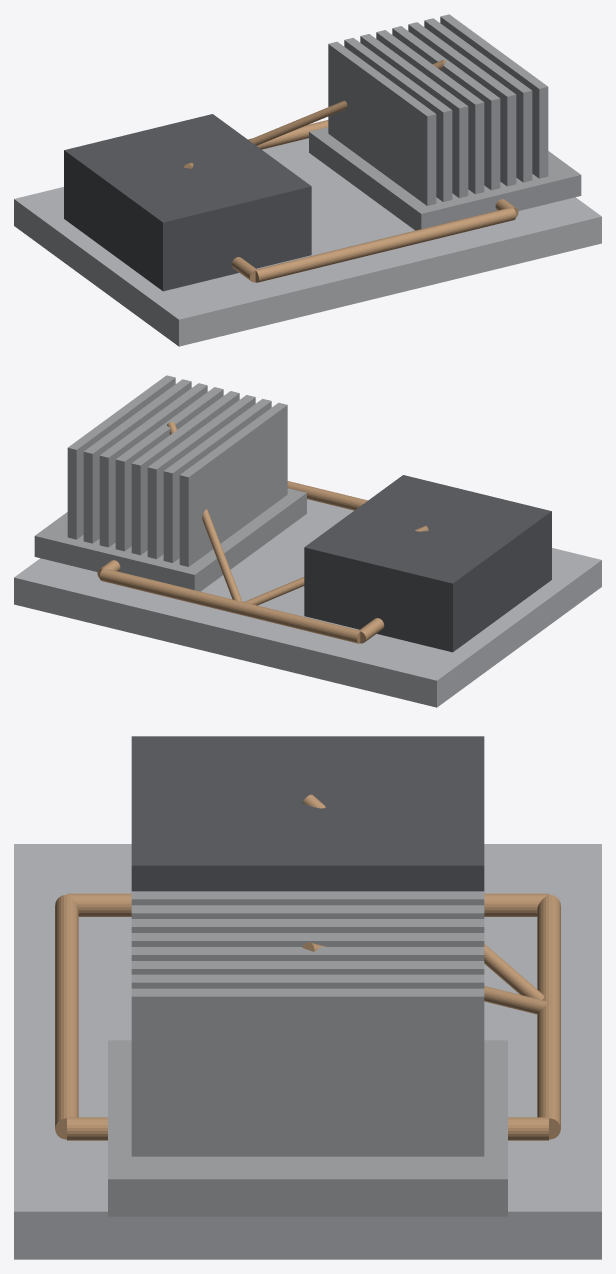
The picture shows the model from 3 angles, top to bottom: view 1: azimuth 30°, elevation 25°; view 2: azimuth 150°, elevation 25°; view 3: azimuth 270°, elevation 25°; orthographic projection. The views are drawn at different scales.
Parts seen in each view (by area): view 1: heat_sink, assembly_base, heat_source, coolant_loop, link_coolant_loop__heat_sink; view 2: heat_sink, assembly_base, heat_source, coolant_loop, link_coolant_loop__heat_sink, link_coolant_loop__heat_source; view 3: heat_sink, assembly_base, heat_source, coolant_loop, link_coolant_loop__heat_source, link_coolant_loop__heat_sink.
Part boxes in pixels (x1=…): heat_sink: x1=309, y1=14, x2=581, y2=230; assembly_base: x1=14, y1=138, x2=601, y2=346; heat_source: x1=64, y1=114, x2=311, y2=291; coolant_loop: x1=231, y1=120, x2=518, y2=282; link_coolant_loop__heat_sink: x1=249, y1=59, x2=445, y2=145; heat_sink: x1=34, y1=375, x2=306, y2=591; assembly_base: x1=14, y1=499, x2=601, y2=707; heat_source: x1=304, y1=475, x2=551, y2=652; coolant_loop: x1=97, y1=481, x2=384, y2=643; link_coolant_loop__heat_sink: x1=167, y1=422, x2=242, y2=601; link_coolant_loop__heat_source: x1=244, y1=525, x2=428, y2=605; heat_sink: x1=108, y1=891, x2=507, y2=1216; assembly_base: x1=14, y1=844, x2=601, y2=1259; heat_source: x1=131, y1=736, x2=484, y2=891; coolant_loop: x1=55, y1=893, x2=560, y2=1140; link_coolant_loop__heat_source: x1=302, y1=794, x2=544, y2=999; link_coolant_loop__heat_sink: x1=302, y1=942, x2=546, y2=1014.
Size of the model in its own units: 7.5 by 2.36 by 5.
